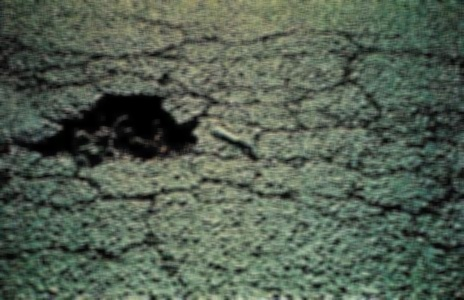pothole: (11, 86, 200, 172)
